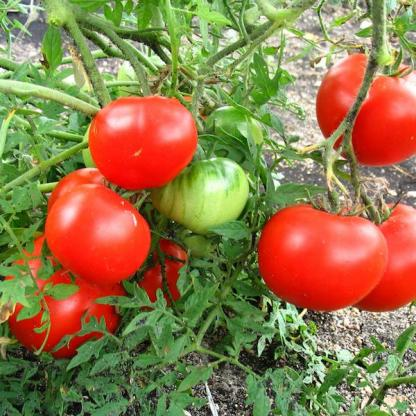---: (252, 192, 390, 320), (40, 178, 154, 288), (92, 76, 203, 187)
